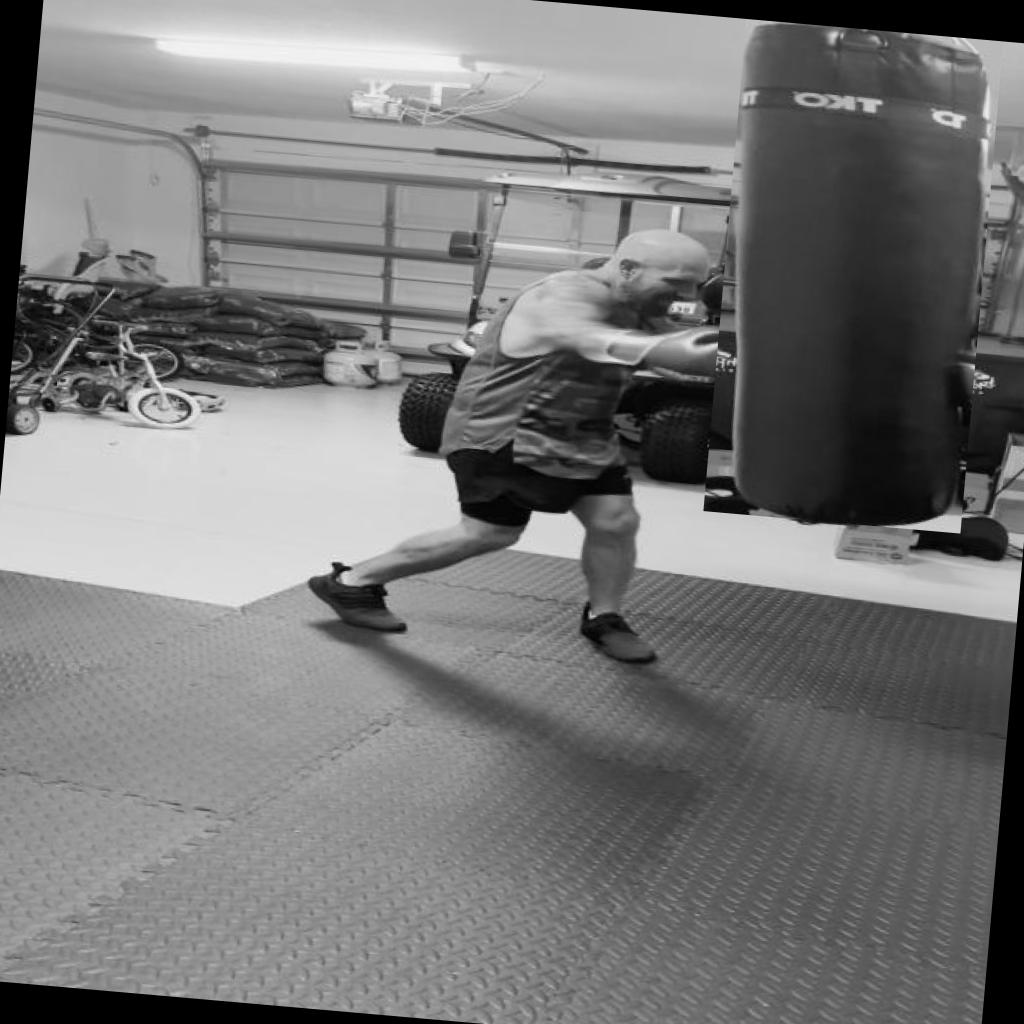bag: (702, 18, 1004, 534)
hook: (412, 183, 818, 436)
